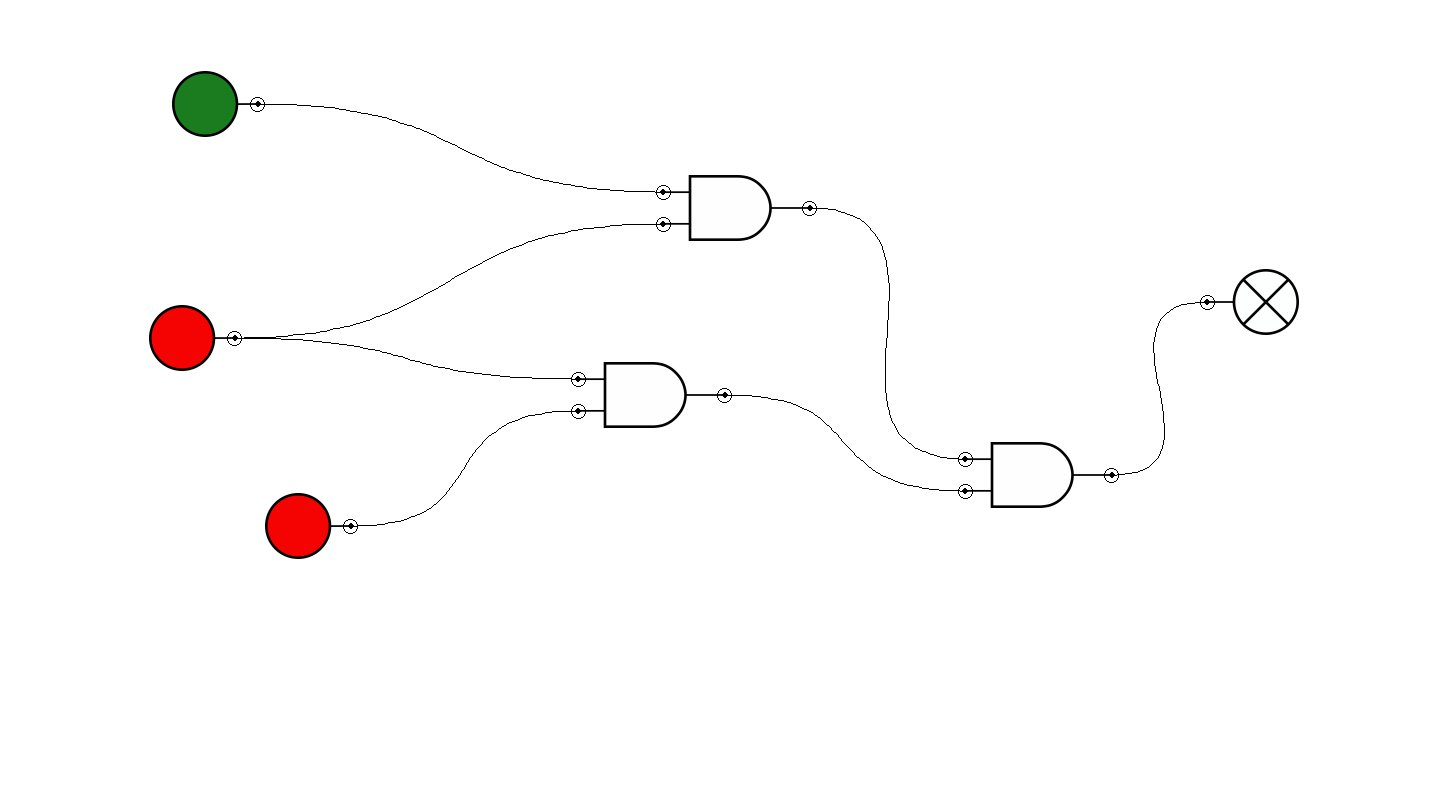and: (958, 442, 1119, 508), (571, 362, 732, 428), (656, 175, 817, 241)
bulb: (1200, 269, 1299, 335)
switch_False: (265, 493, 358, 559), (149, 305, 242, 371)
switch_True: (172, 71, 265, 137)
